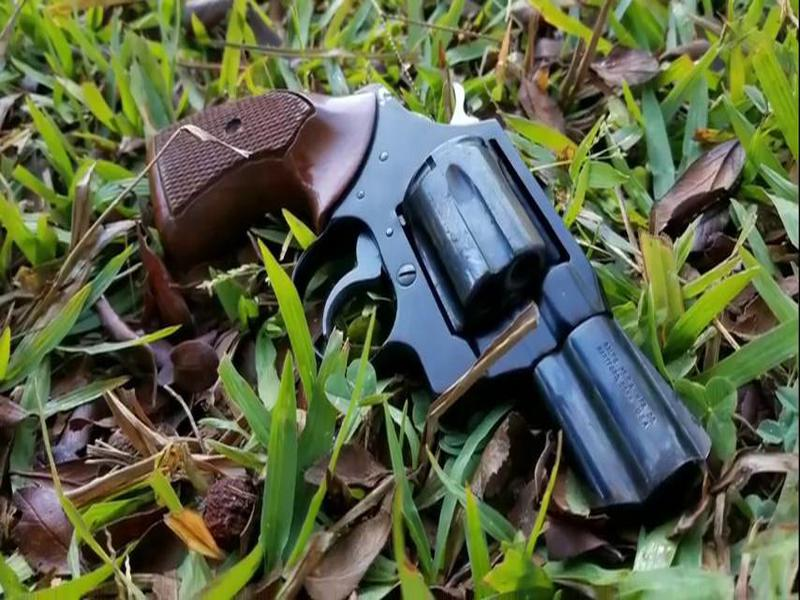Revolver: (113, 77, 716, 552)
